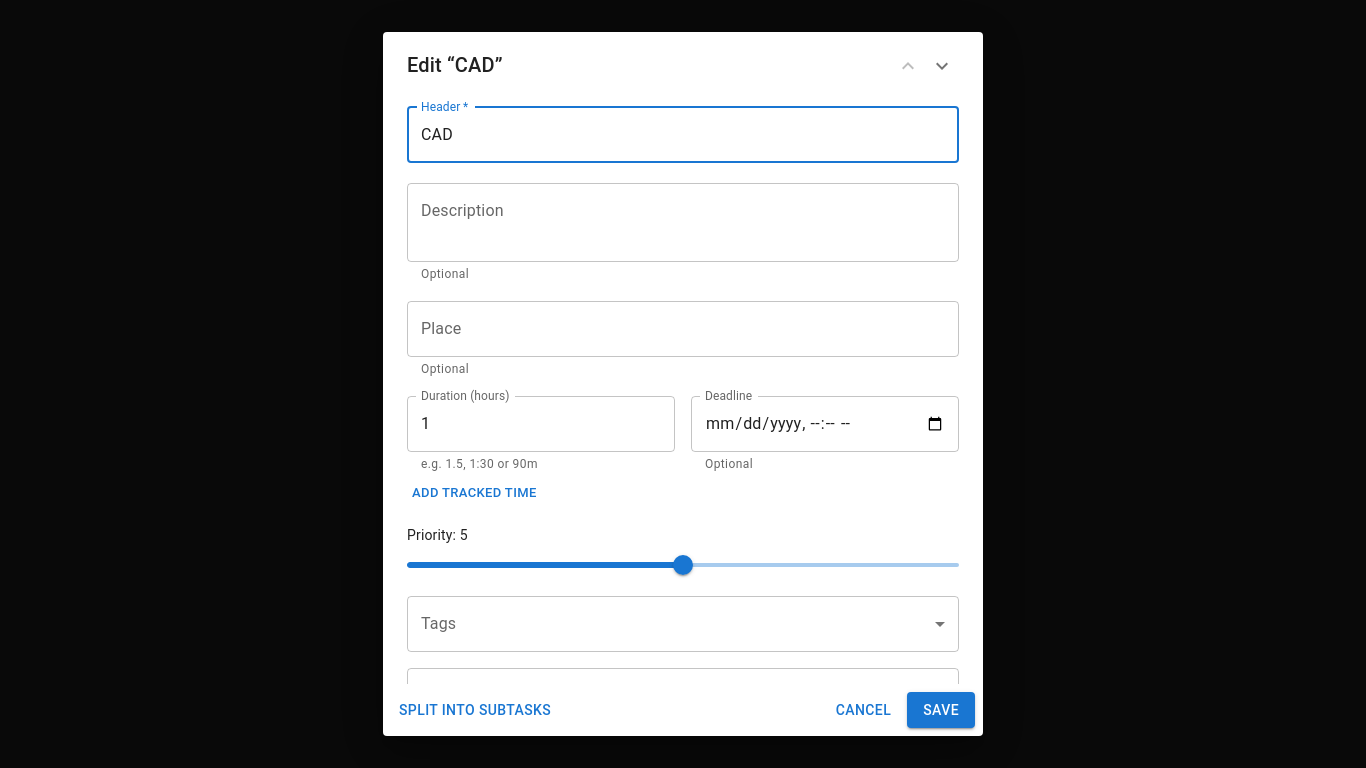
TaskFormDialog — walking through tasks (T-4, like Todoist) › saves unsaved changes first
Replace the text in the field labelled "Header *" with "CAD v2" at (683, 135), box [407,107,959,163]
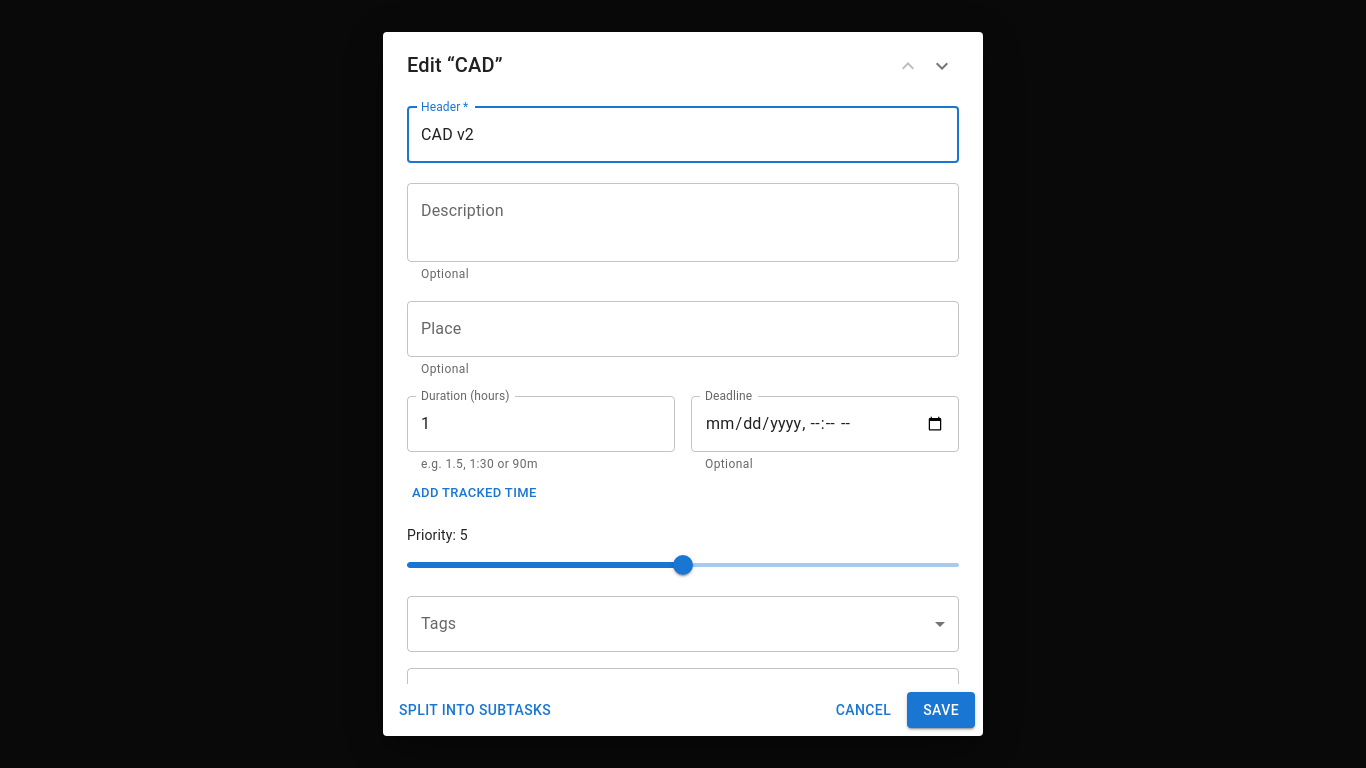
Click the button named "next task" at (942, 66), box [925,49,959,83]
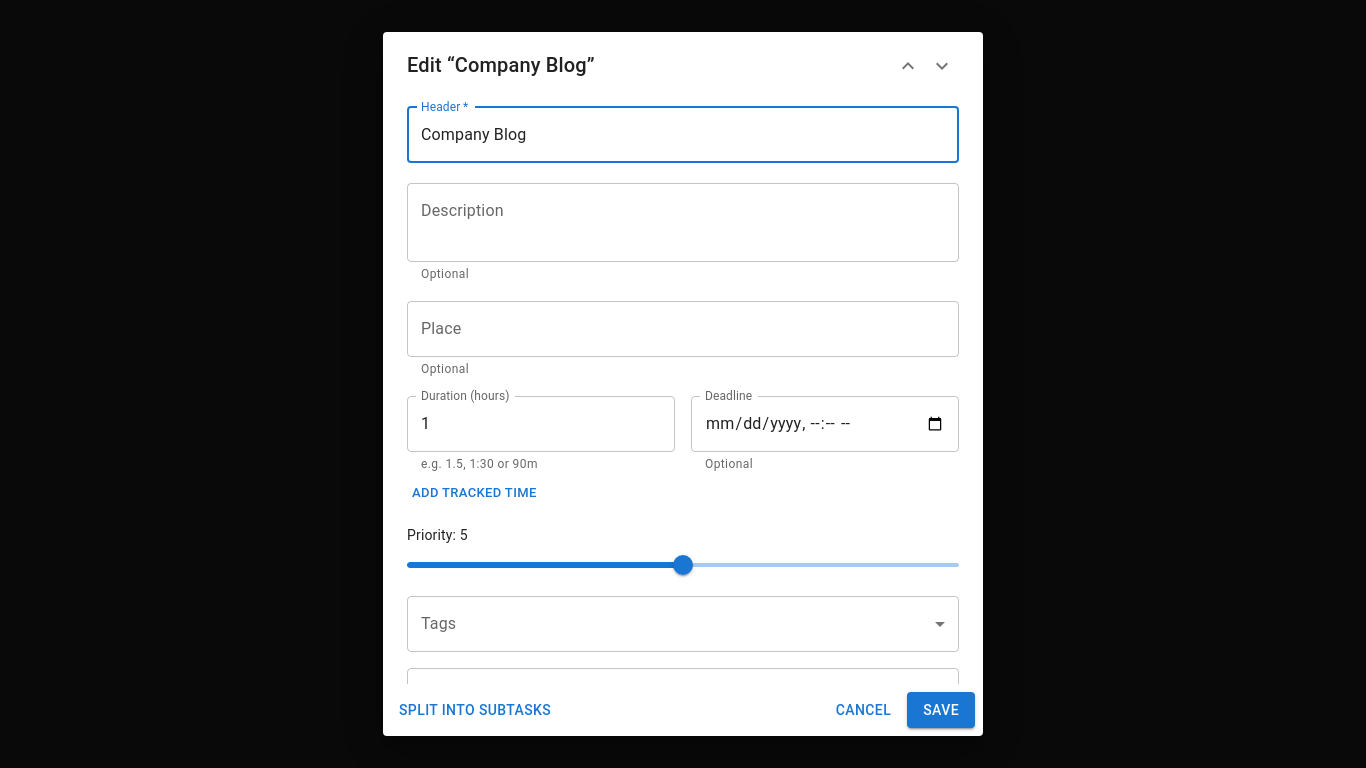
Expected: the field labelled "Header *" holds "Company Blog", [407,107,959,163]
